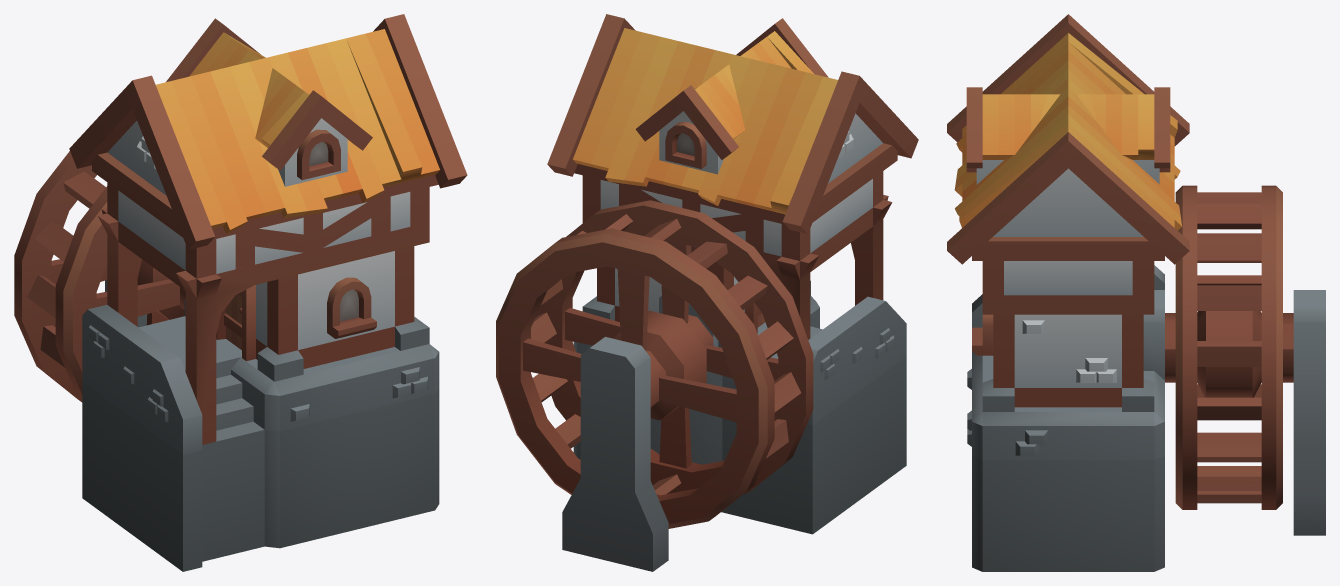
File: H_watermill_yellow.glb
3 views of the same model, side by side, from view 1: azimuth 30°, elevation 25°; view 2: azimuth 150°, elevation 25°; view 3: azimuth 270°, elevation 25° (orthographic). The views are drawn at different scales.
Parts seen in each view (by area): view 1: building_watermill_yellow, building_watermill_wheel_yellow; view 2: building_watermill_yellow, building_watermill_wheel_yellow; view 3: building_watermill_yellow, building_watermill_wheel_yellow.
Boxes of the visible parts, left/top/right/bottom form: building_watermill_yellow: left=69, top=14, right=467, bottom=571; building_watermill_wheel_yellow: left=14, top=151, right=185, bottom=402; building_watermill_yellow: left=547, top=14, right=918, bottom=571; building_watermill_wheel_yellow: left=496, top=200, right=813, bottom=528; building_watermill_yellow: left=947, top=14, right=1325, bottom=571; building_watermill_wheel_yellow: left=1165, top=185, right=1293, bottom=509.
Bounding box in the file's own units: 1.05 × 1.57 × 1.24.
